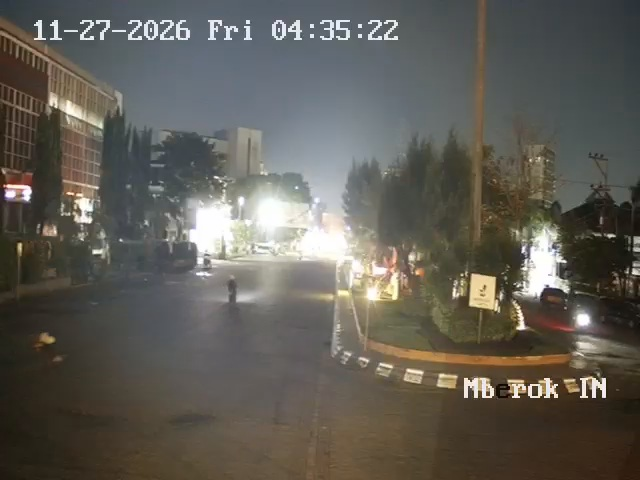Gerobak: (349, 243, 411, 300)
